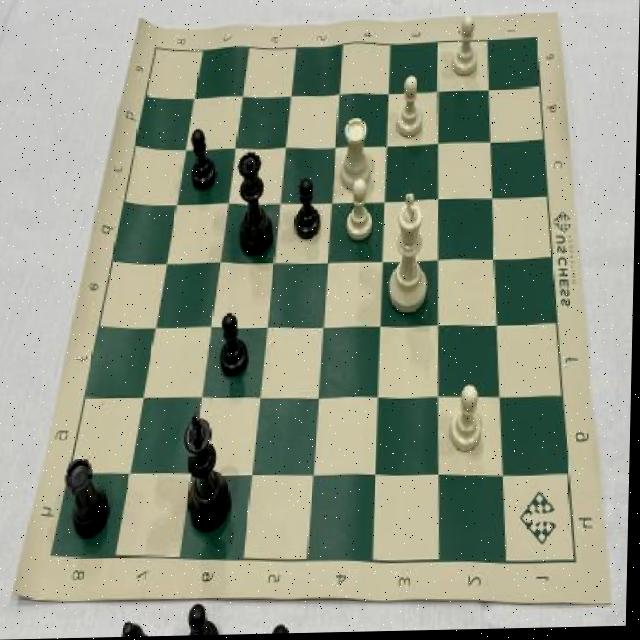black-bishop: (183, 408, 238, 542)
black-knight: (218, 309, 253, 381), (293, 178, 323, 246), (189, 125, 217, 193)
black-pawn: (234, 145, 277, 261)
black-queen: (63, 456, 115, 546)
white-bishop: (386, 191, 435, 321)
white-knight: (450, 385, 488, 460), (345, 176, 380, 248), (393, 73, 428, 143), (450, 15, 484, 83)
white-queen: (336, 115, 375, 198)
